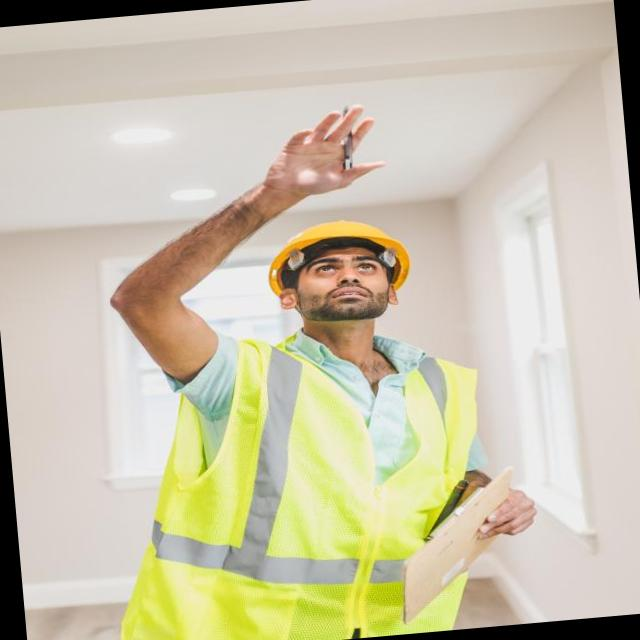Helmet: (270, 210, 418, 310)
Vest: (103, 308, 483, 640)
